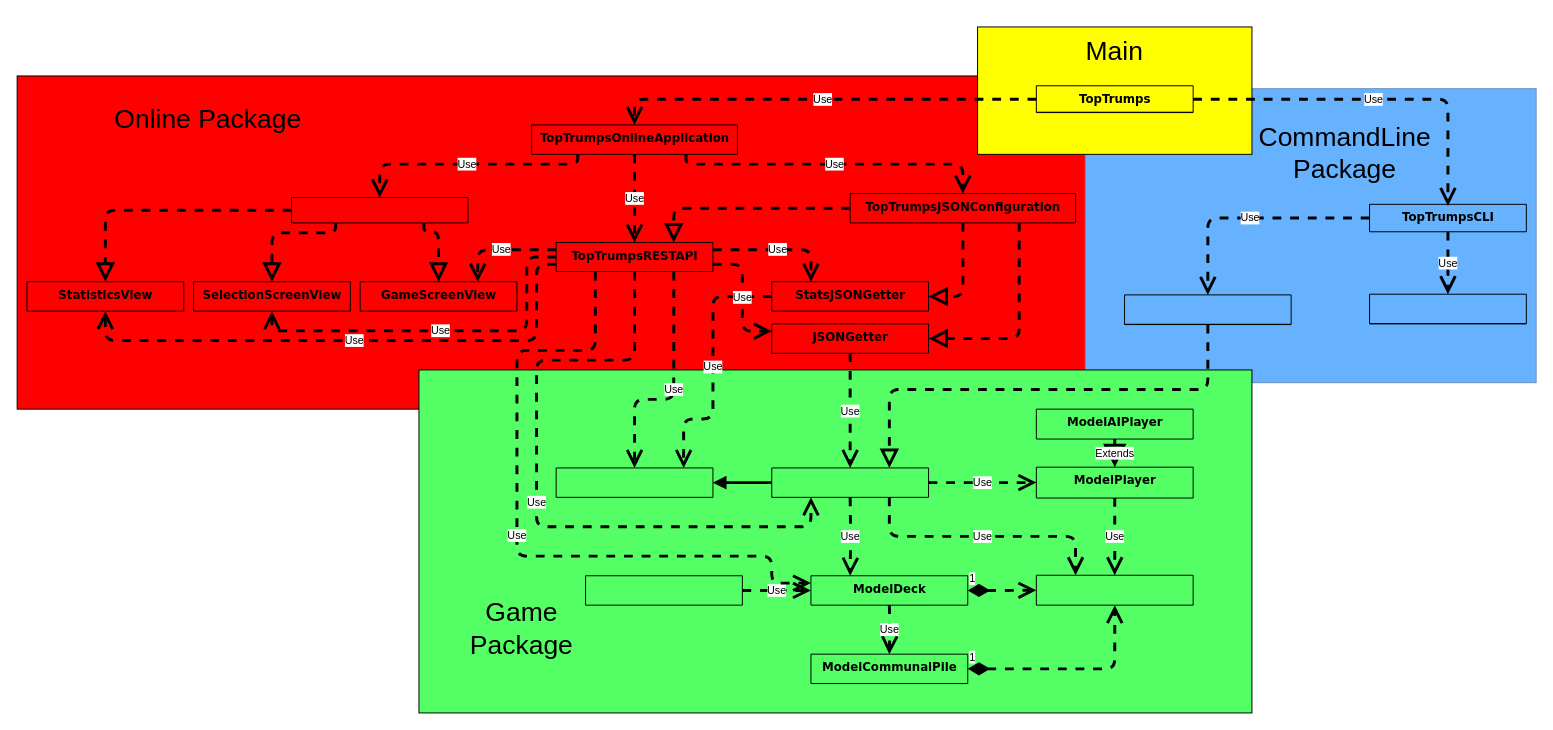
Image size: 1553x730. Some labels were removed from this diagram. Here are the shapes that lost their labels. From the top down, the centre of each, then its label:
At (x=379, y=209): "GameWebPagesResource".
At (x=1207, y=309): "CommandLineController".
At (x=1447, y=308): "Logger".
At (x=634, y=482): "DatabaseQuery".
At (x=850, y=482): "Game".
At (x=663, y=590): "ModelDeckBuilder".
At (x=1114, y=589): "ModelCard".
